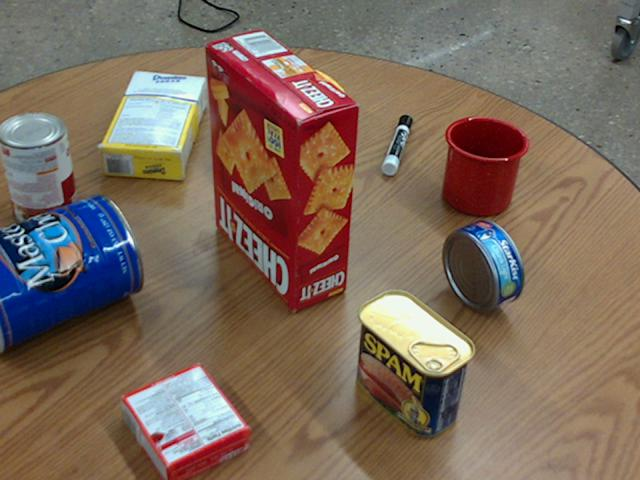cracker_box: (204, 30, 358, 310)
gelatin_box: (121, 362, 250, 479)
large_marker: (382, 115, 412, 174)
master_chef_can: (0, 193, 142, 353)
mug: (440, 115, 528, 215)
mustard_bottle: (216, 67, 344, 160)
potted_meat_can: (355, 289, 475, 436)
sugar_box: (99, 69, 206, 179)
tomato_soup_can: (0, 112, 78, 228)
tuna_fish_can: (442, 218, 522, 311)
